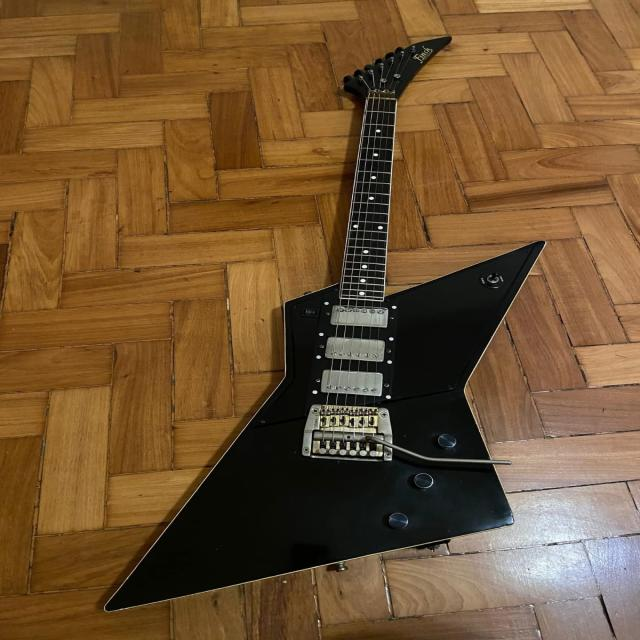guitar: (105, 36, 545, 611)
